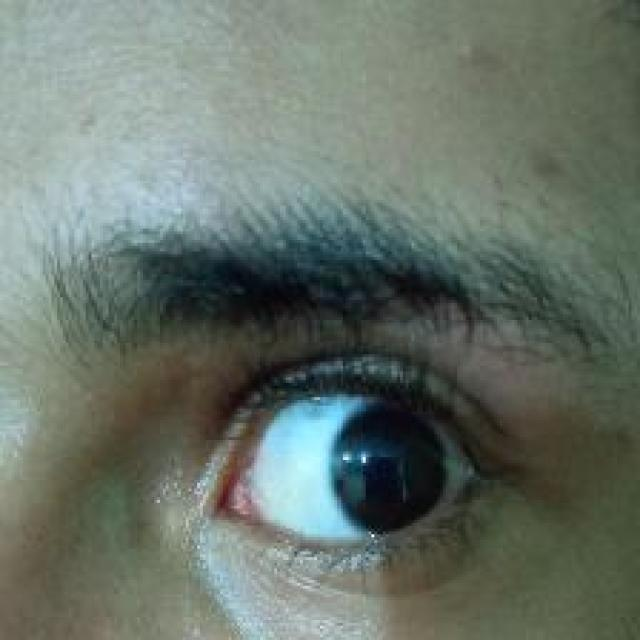Normal: (117, 268, 640, 640)
